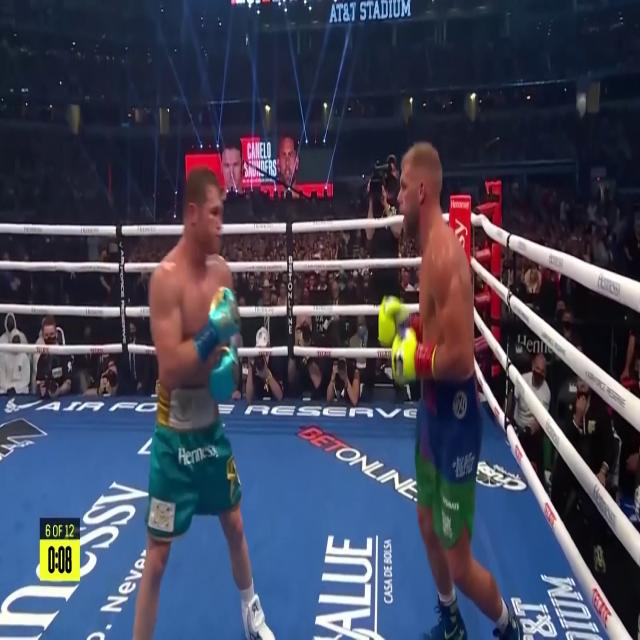boxer_1: (396, 142, 449, 351)
boxer_2: (176, 168, 227, 340), (180, 354, 218, 390)
gloves_1: (377, 296, 439, 384)
gloves_2: (192, 289, 241, 402)
